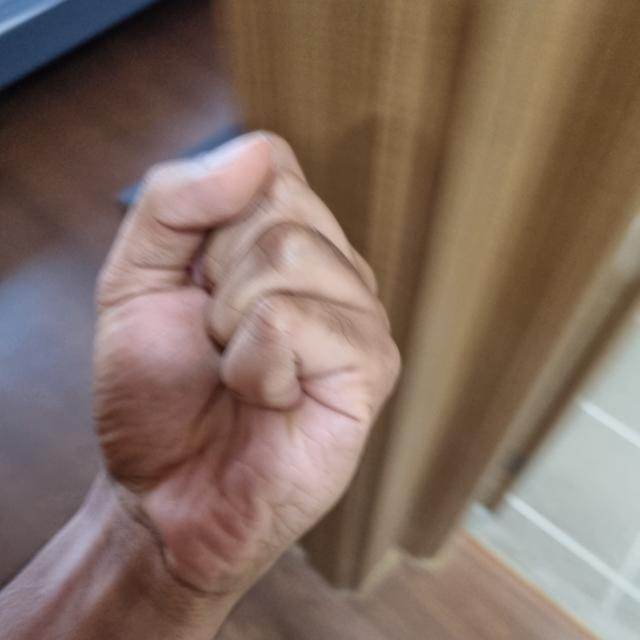Rock: (96, 142, 403, 575)
